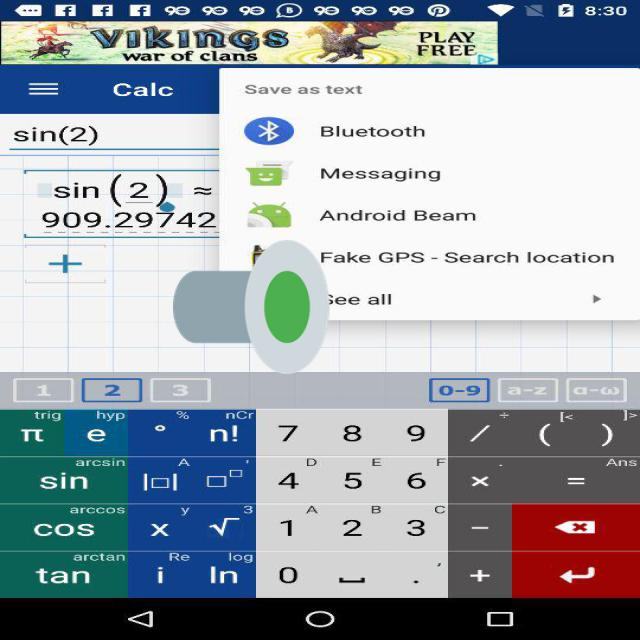social proof: (173, 183, 330, 431)
